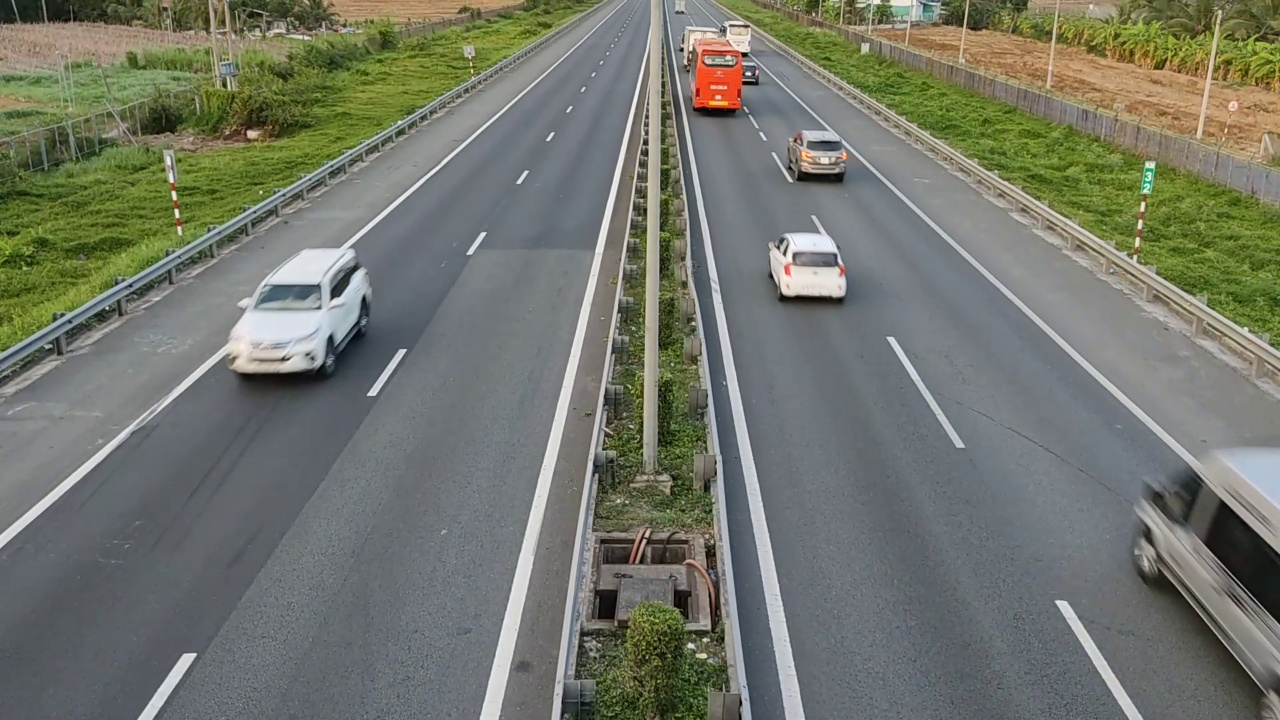bus: (691, 38, 743, 113)
car: (1128, 441, 1280, 709), (224, 245, 373, 379), (767, 223, 847, 303), (785, 128, 848, 182)
